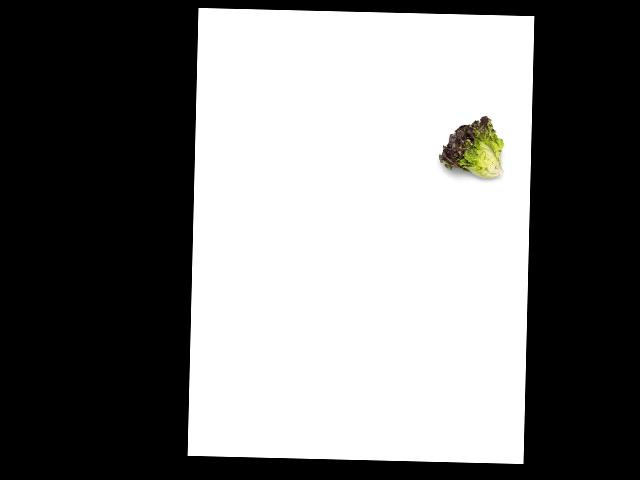lettuce: (434, 116, 507, 179)
